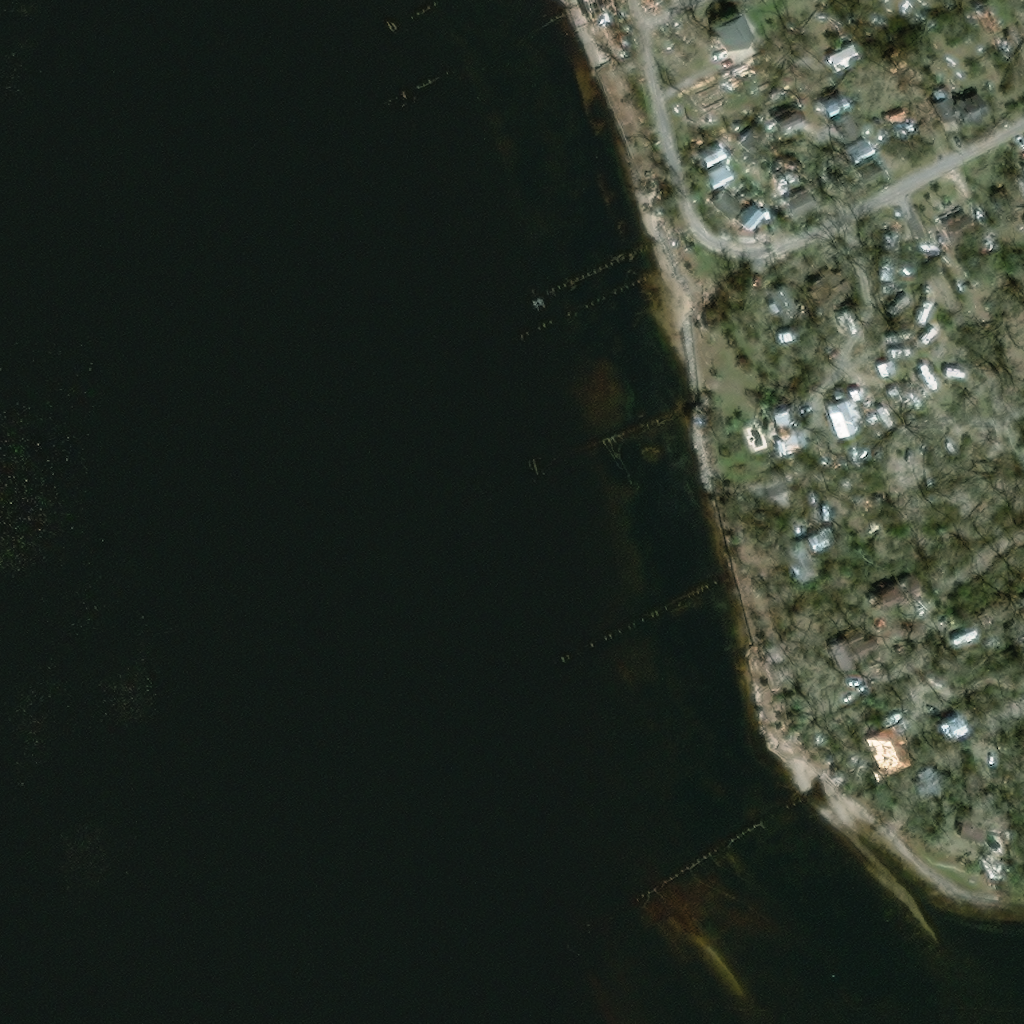destroyed: (572, 0, 615, 26), (973, 3, 1001, 40)
major_damage: (762, 401, 805, 450), (744, 192, 756, 203)
minor_damage: (925, 84, 992, 130), (824, 395, 864, 435), (834, 111, 866, 145), (846, 141, 875, 164)
no_damage: (703, 9, 749, 51), (954, 810, 992, 843), (712, 189, 747, 221), (735, 206, 766, 236), (784, 192, 816, 221), (702, 166, 736, 193), (857, 166, 890, 188), (697, 148, 726, 170), (830, 96, 852, 116)
